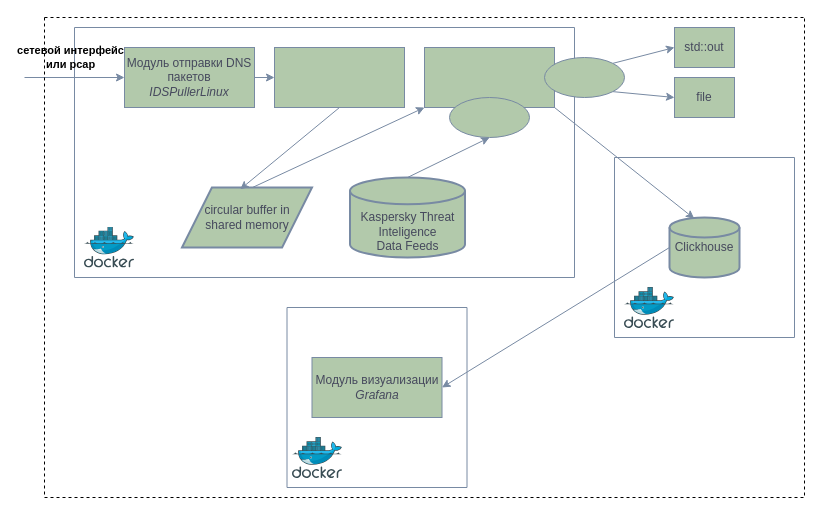
The diagram is 822 pixels wide and 515 high, and some of its shapes have lost their labels. The centre of each missing label's shape, as x and y in pixels:
in memory storage: point (489, 117)
spdlog: point (584, 77)
Модуль анализа dns-db-search: point (489, 77)
Модуль приема и разбора DNS пакетов IDSDNSAnalizer: point (339, 77)
